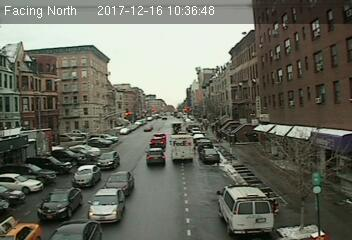car: (38, 187, 84, 221), (89, 188, 127, 224), (47, 218, 103, 240), (104, 171, 137, 198), (71, 165, 101, 189), (96, 150, 121, 169), (144, 146, 167, 165), (199, 148, 221, 162), (148, 137, 165, 148)
police: (216, 183, 279, 238)
truck: (169, 133, 195, 162)
